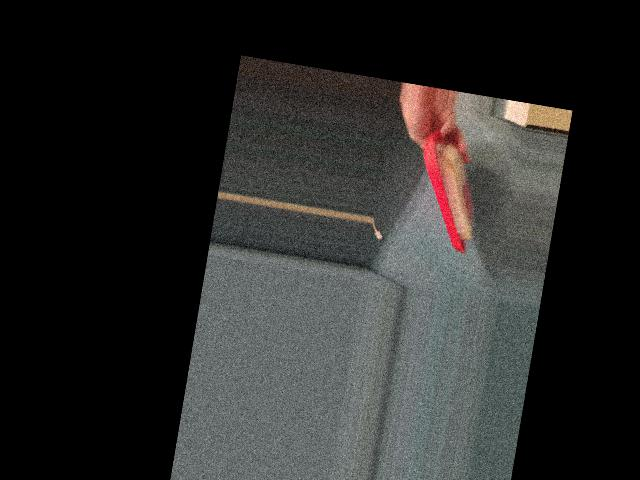cheese: (401, 127, 492, 254)
